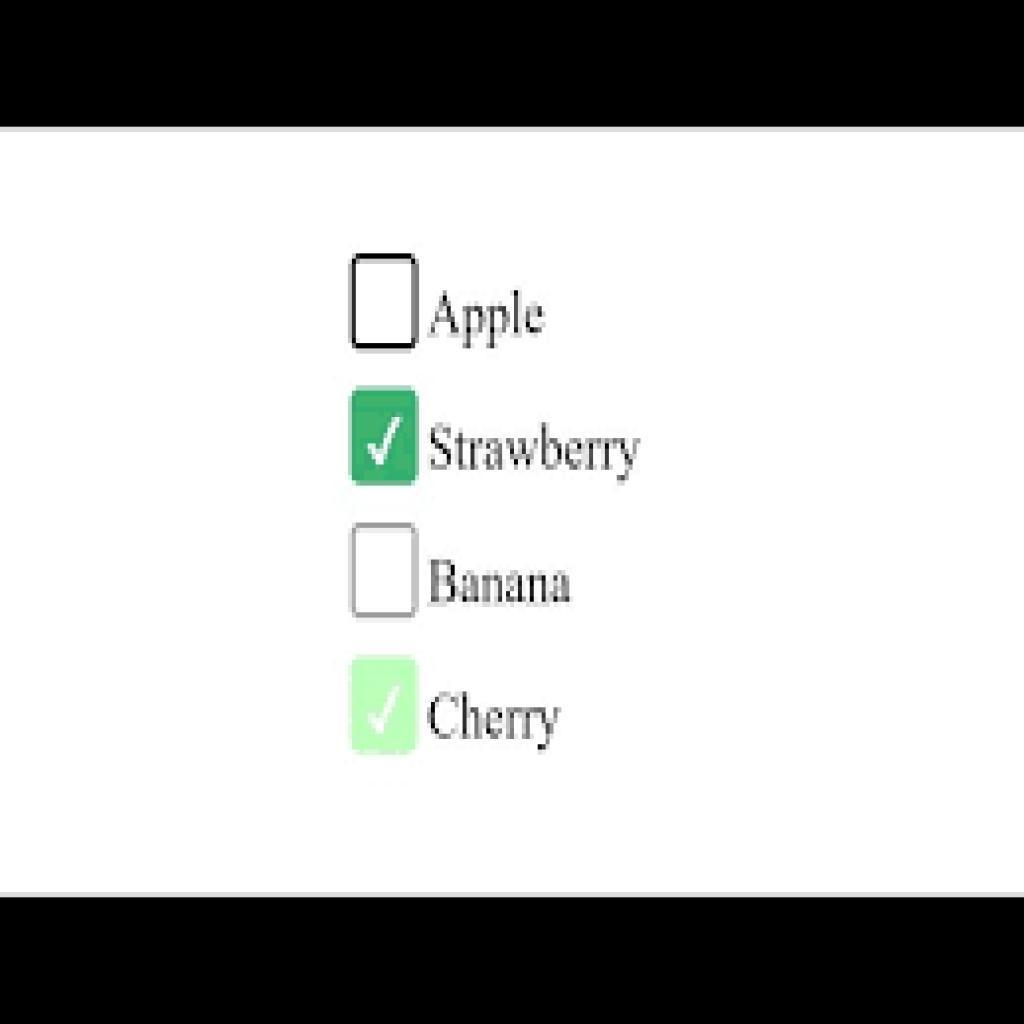checkbox: (349, 655, 422, 759), (349, 388, 422, 486), (350, 254, 422, 353), (353, 522, 420, 618)
